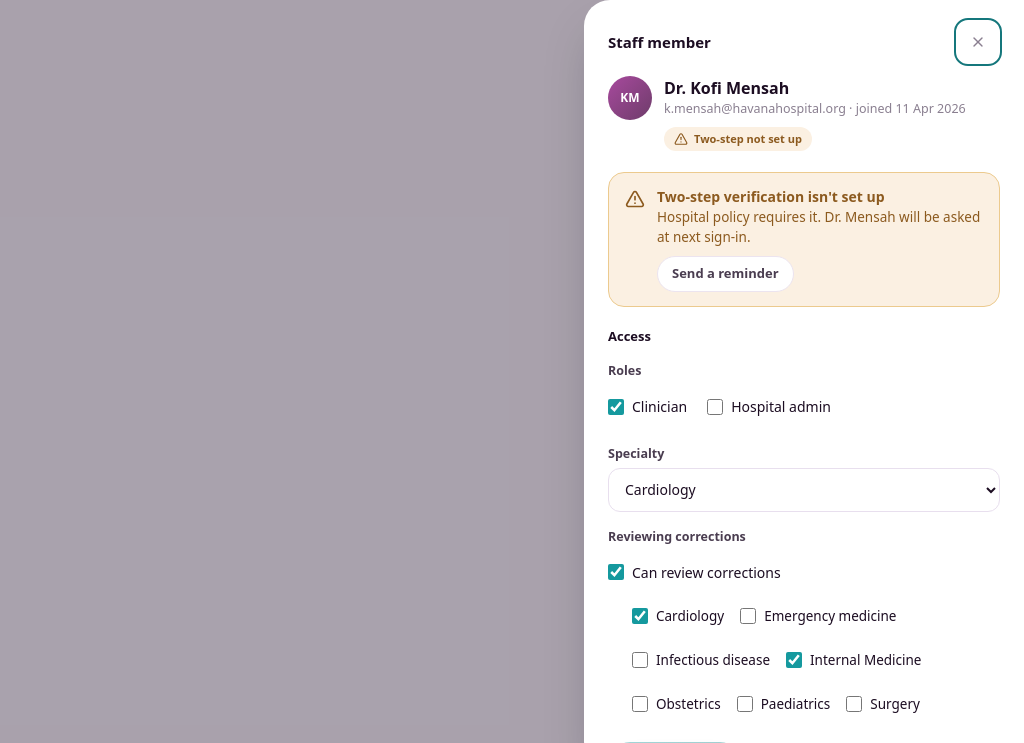
Test: StaffPanel › changes the specialty and saves only that, with the version
Select "Internal Medicine" in the dropdown labelled "Specialty": (804, 490) x1=608 y1=468 x2=1000 y2=512
(page scrolled)
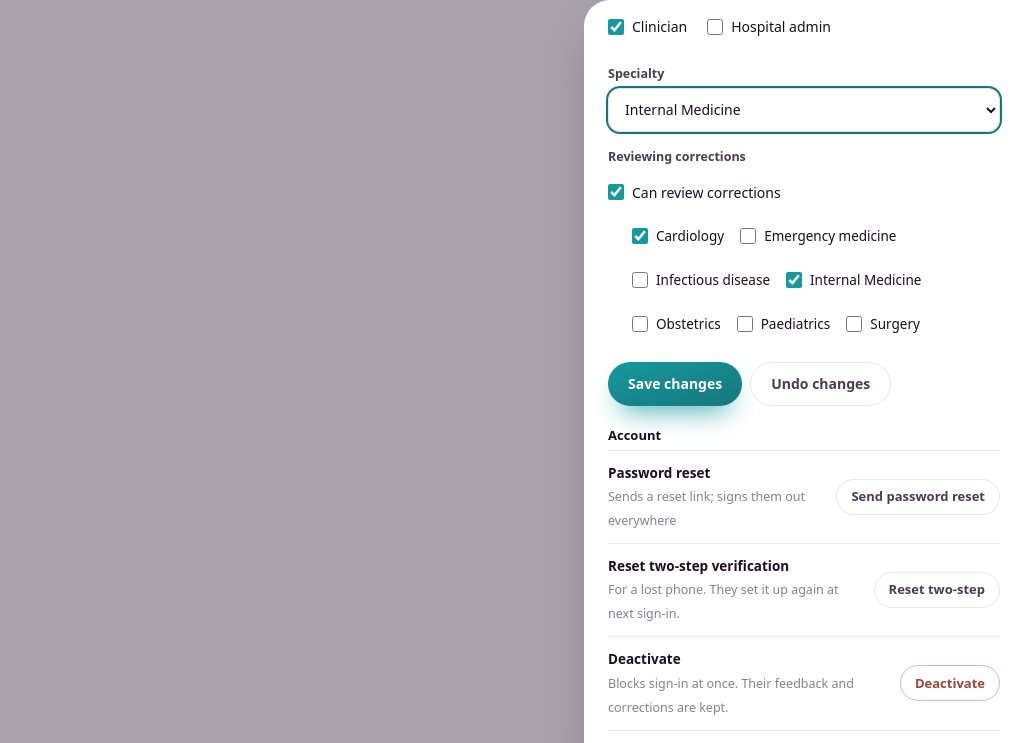
Click the button "Save changes": click(675, 384) x1=608 y1=362 x2=742 y2=406
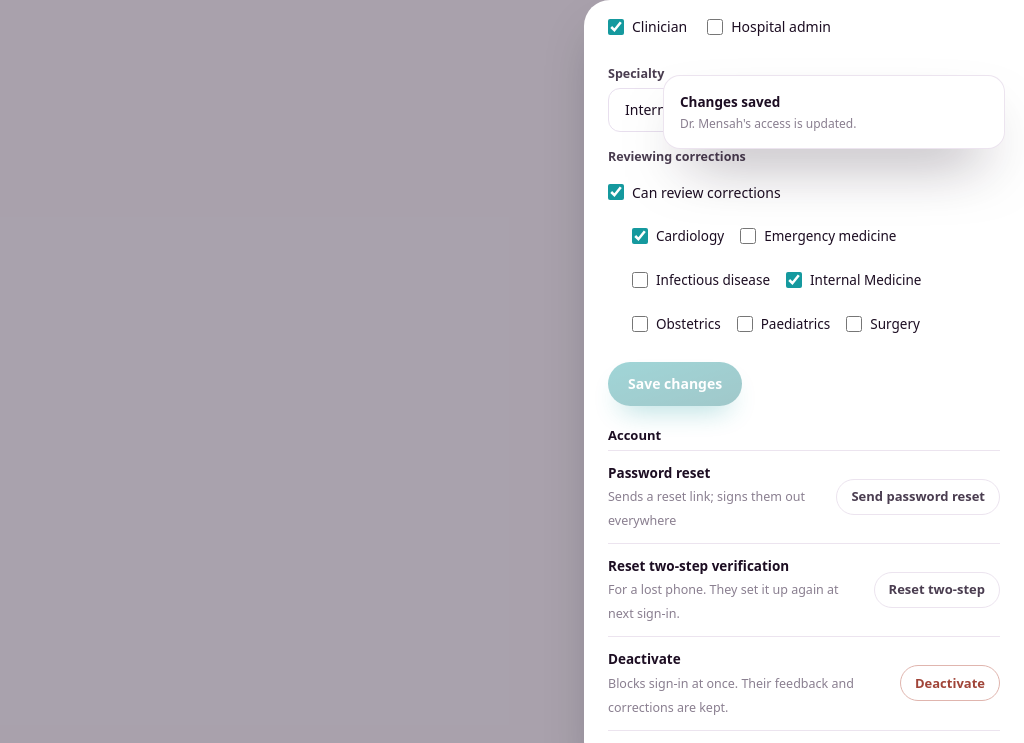
Check: the text "Changes saved" is shown, box x1=680 y1=93 x2=780 y2=111
Check: the button "Save changes" is disabled, box x1=608 y1=362 x2=742 y2=406
